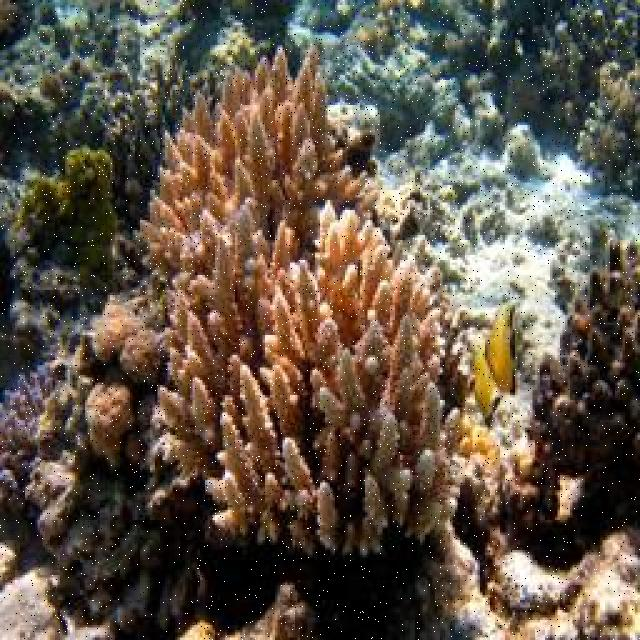fish: (483, 303, 517, 393), (467, 352, 499, 426)
reefs: (135, 46, 471, 557), (458, 231, 638, 590), (17, 146, 124, 278), (0, 360, 67, 498), (84, 379, 132, 467), (83, 298, 144, 362), (121, 326, 161, 388)
sea-floor: (424, 521, 638, 638)
